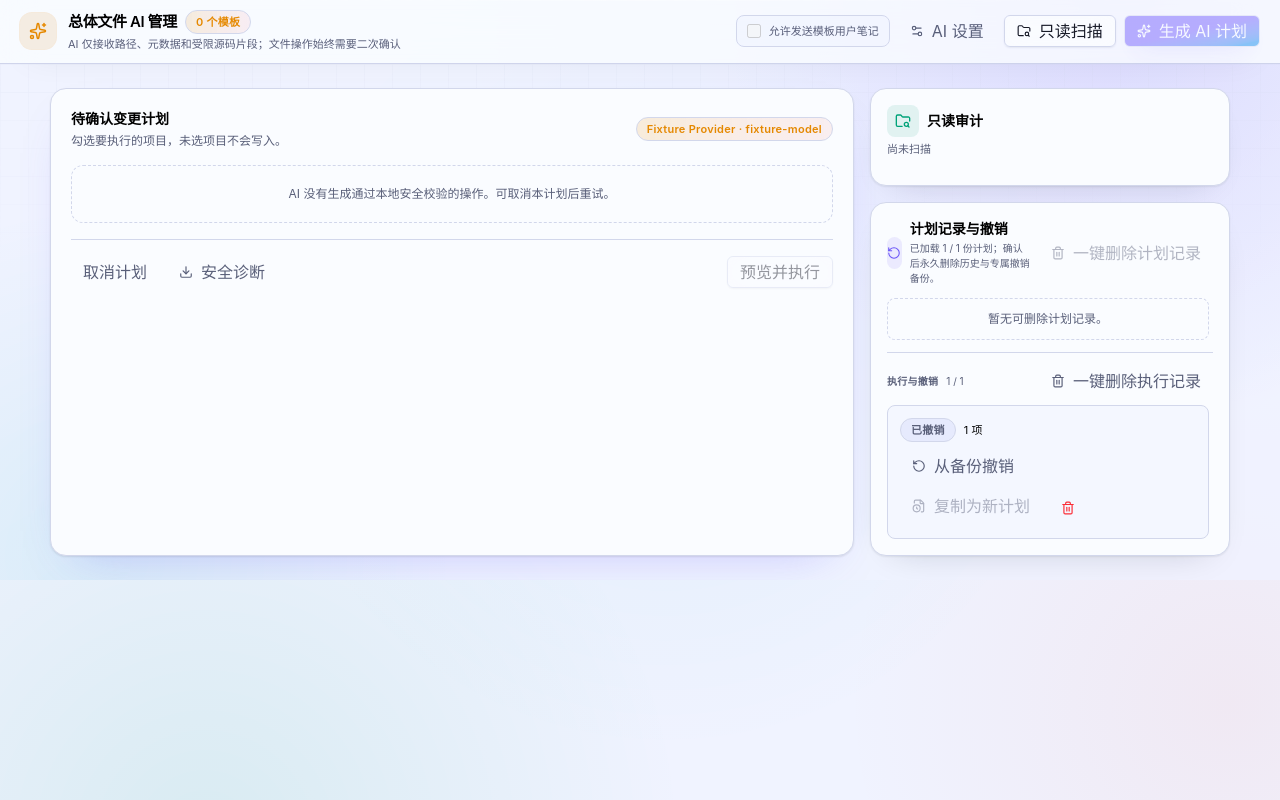
it: FileManagementWorkspace plan review › keeps zero-operation and no-draft empty states while delegating cancel and diagnostics
The width and height of the screenshot is (1280, 800).
expect the text "AI 没有生成通过本地安全校验的操作。可取消本计划后重试。" is shown: met, box [71, 164, 833, 222]
Click the button "安全诊断".
click(222, 272)  # box [167, 256, 277, 288]
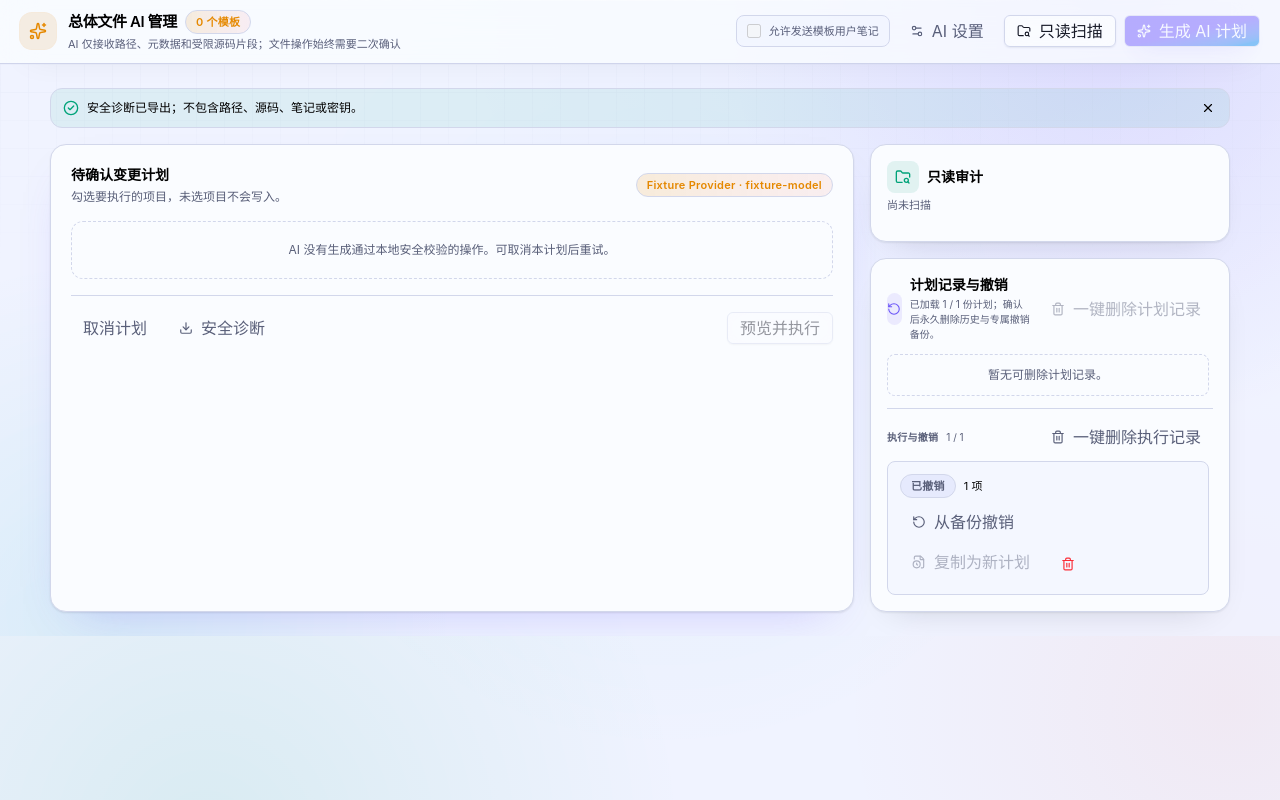
Click the button "取消计划".
click(115, 328)  # box [71, 312, 159, 344]
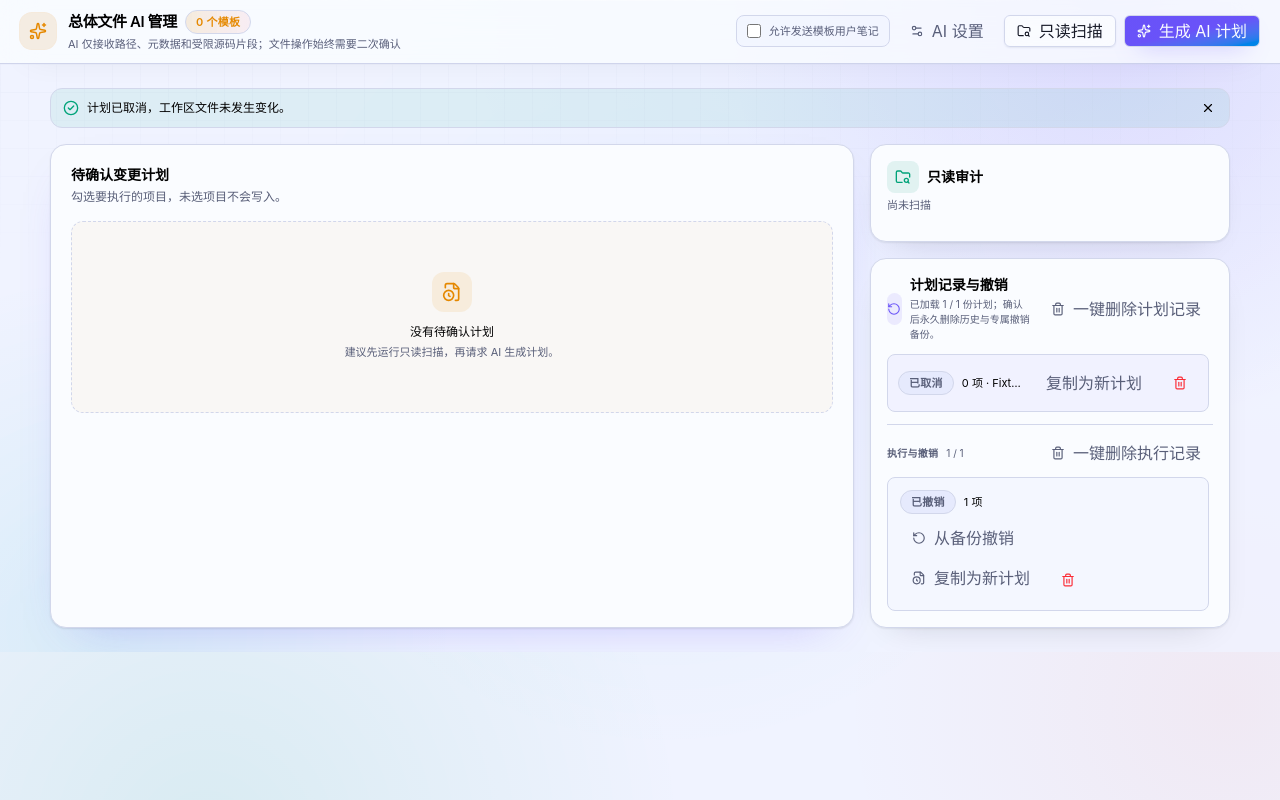
expect the text "没有待确认计划" is shown: met, box [410, 324, 494, 339]
